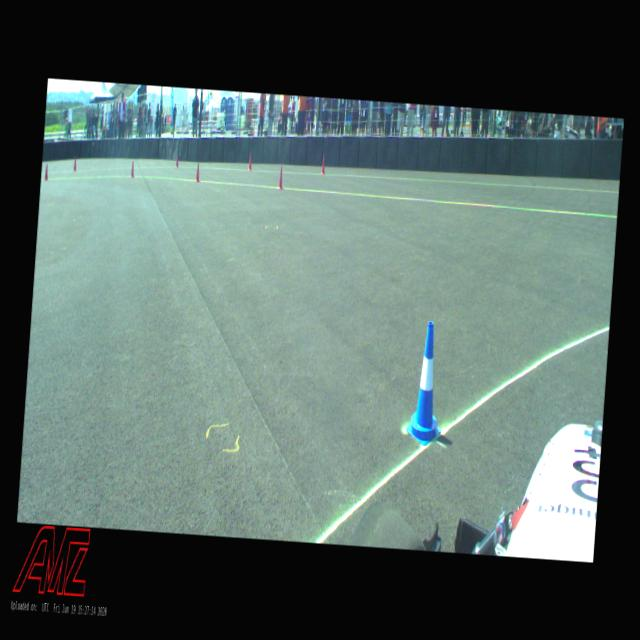blue_cone: (405, 321, 448, 446)
